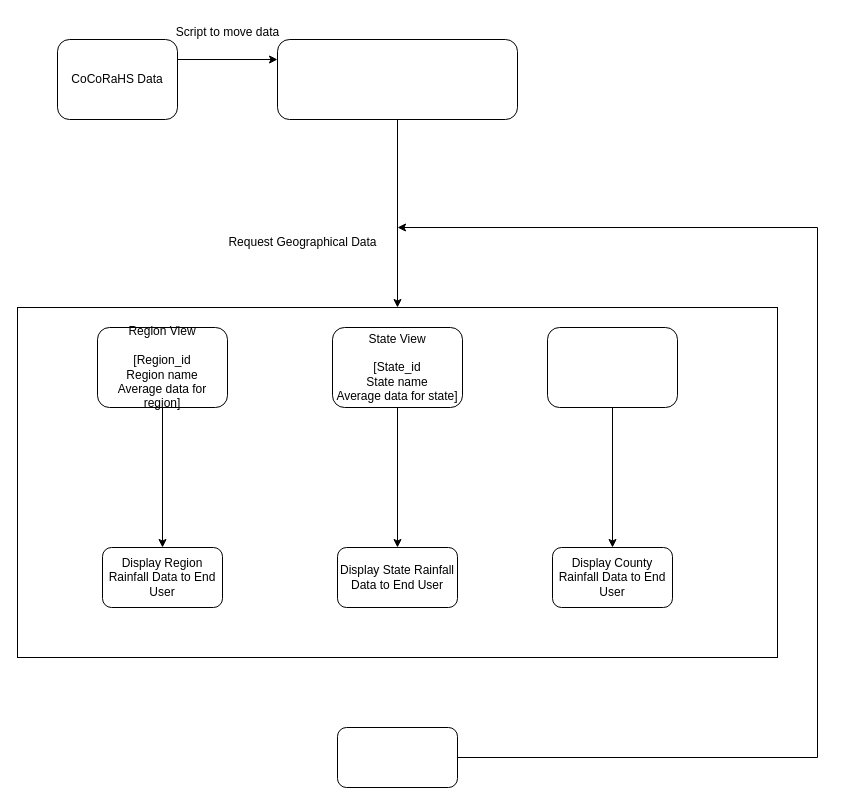
The diagram is 843 pixels wide and 805 high, and some of its shapes have lost their labels. The shapes that lost their labels are listed below. From the top down, each one's box as (x1, y1, x2, y2) in pixels, then its label:
(276, 38, 518, 120): Database Data
(546, 326, 678, 408): County View [County_id County name individual county data]
(336, 726, 458, 788): Date Change or View Change
